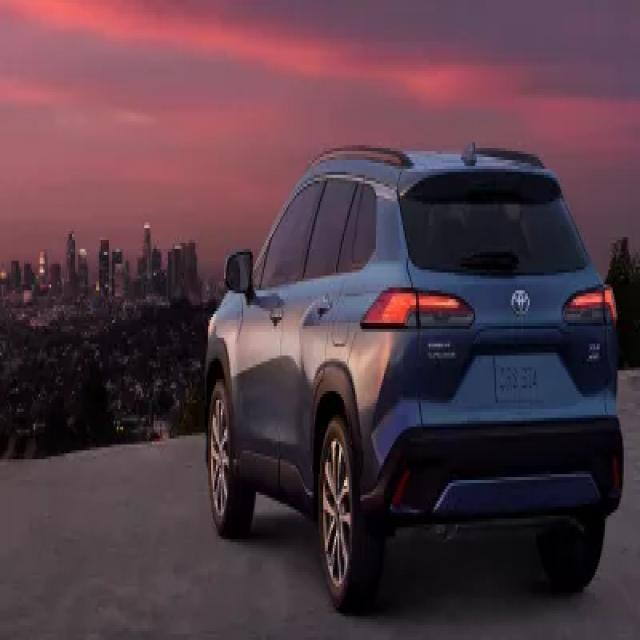sedan: (202, 140, 624, 610)
